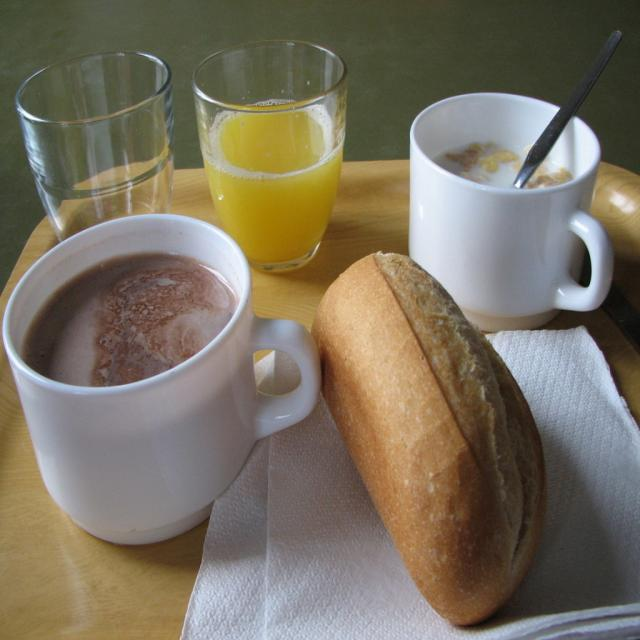Tea: (17, 248, 240, 382)
